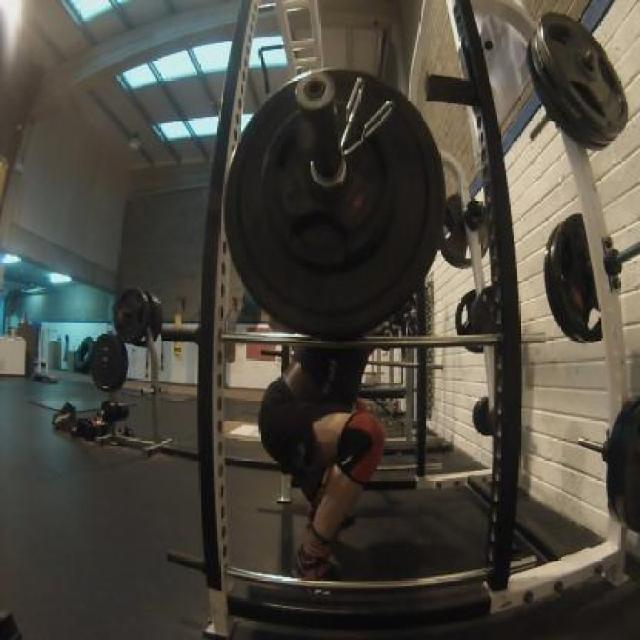barbell: (217, 67, 454, 338)
